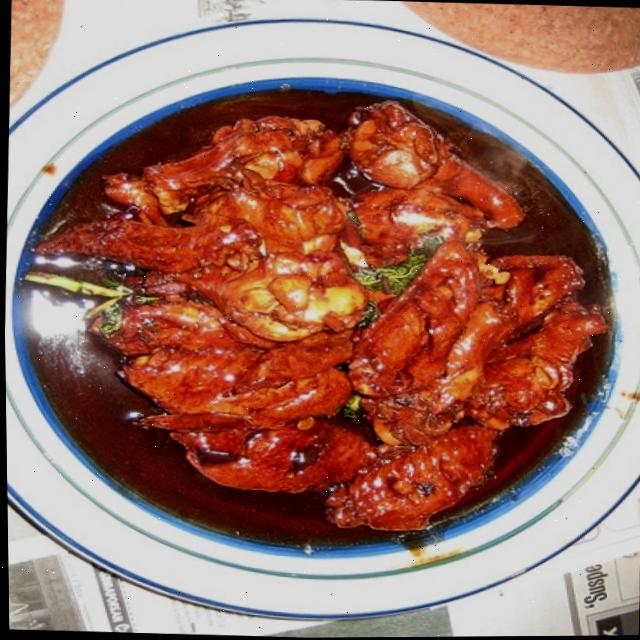鸡肉料理 含炸鸡: (0, 20, 640, 605)
